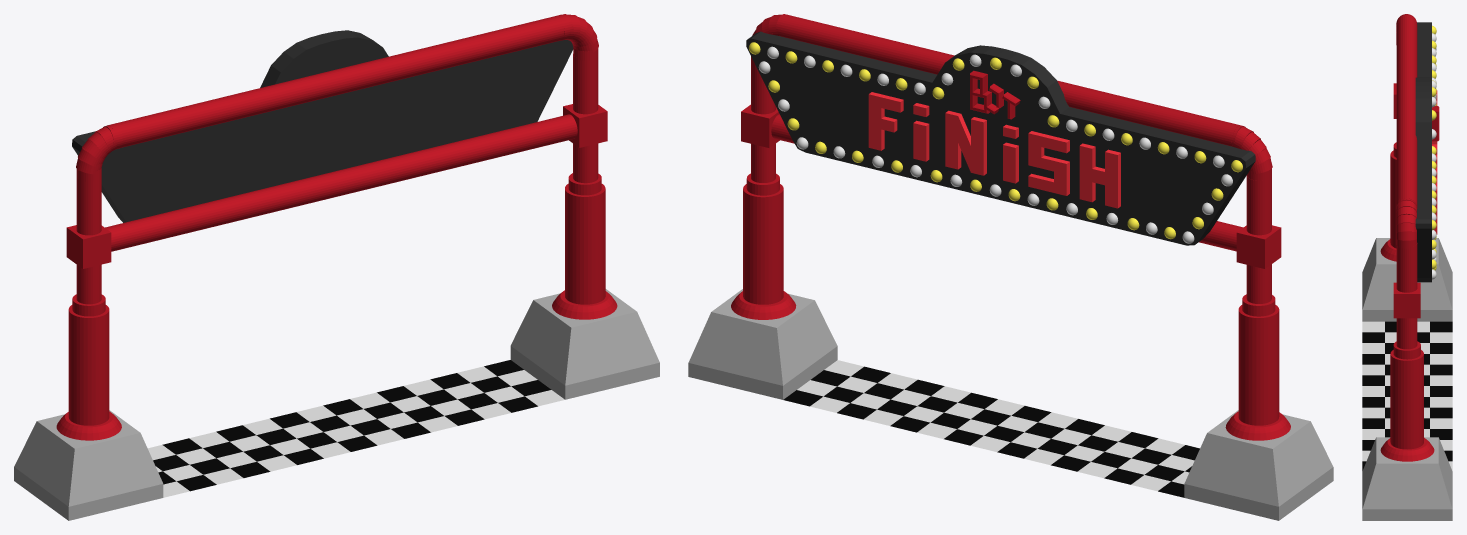
File: ArrivéeRouge.fbx
3 views of the same model, side by side, from view 1: azimuth 30°, elevation 25°; view 2: azimuth 150°, elevation 25°; view 3: azimuth 270°, elevation 25° (orthographic). The views are drawn at different scales.
Parts seen in each view (by area): view 1: Sphere.001; view 2: Sphere.001; view 3: Sphere.001.
Boxes of the visible parts, x1,y1,x2,y2 form: Sphere.001: [14, 14, 659, 520]; Sphere.001: [688, 14, 1333, 520]; Sphere.001: [1362, 14, 1452, 520].
Bounding box in the file's own units: 2083 × 1293 × 334.
